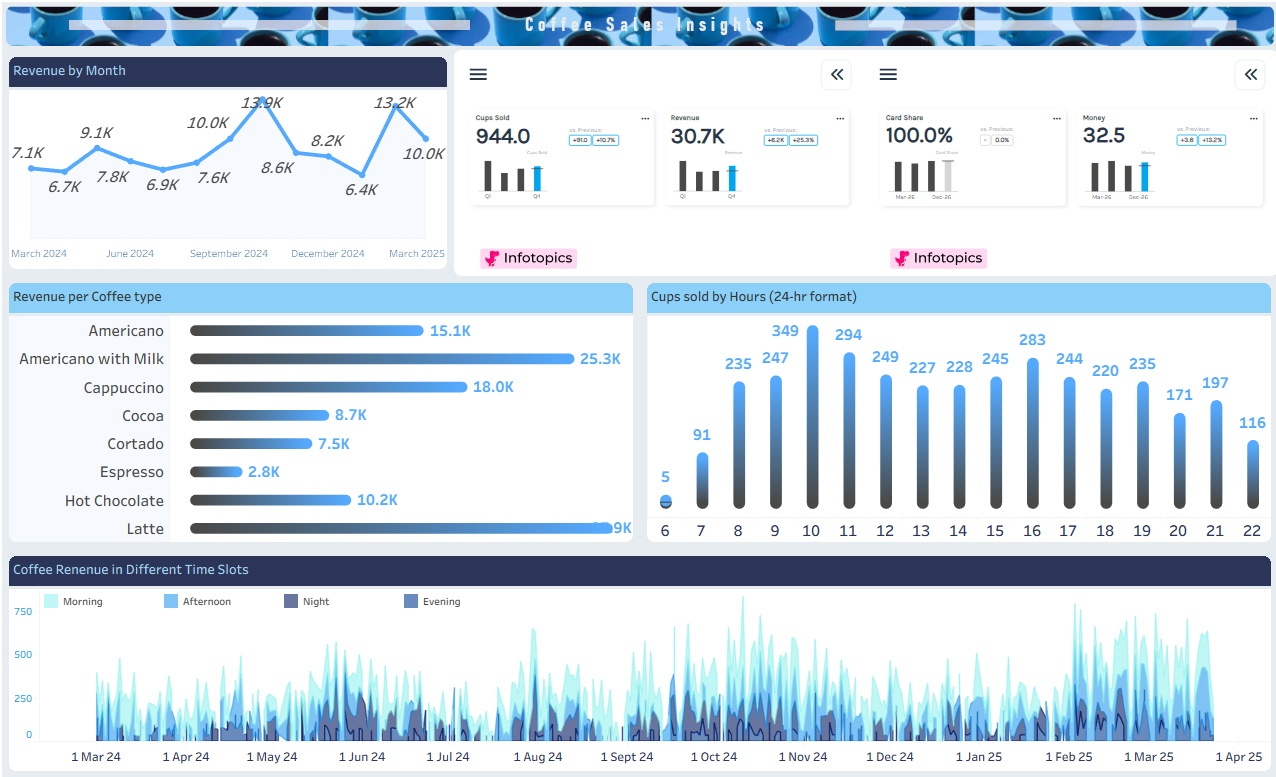

This screenshot's page, from the dashboard's own definition file:
{"tool":"tableau","page":{"name":"Dashboard","canvas":[1300,800],"ordinal":0},"visuals":[{"type":"image","param":"C:/Users/hp/Downloads/coffeebanner.jpg","box":[12,12,1276,48]},{"type":"worksheet","title":"Revenue by month","mark":"Automatic","rows":["money","money"],"cols":["datetime"],"box":[12,60,452,226]},{"type":"worksheet","title":"KPI 1","mark":"VizExtension","box":[464,60,410,226]},{"type":"worksheet","title":"KPI 2","mark":"VizExtension","box":[874,60,414,226]},{"type":"worksheet","title":"Revenue per Coffee type","mark":"Line","rows":["coffee_name"],"box":[12,286,638,273]},{"type":"worksheet","title":"Cups sold by hours","mark":"Line","cols":["datetime"],"box":[650,286,638,273]},{"type":"worksheet","title":"Time slot coffee Renenue","mark":"Area","rows":["money"],"cols":["date"],"box":[12,559,1276,229]},{"type":"legend","title":"Time slot coffee Renenue","param":"[federated.178hkmu1bey7e8163t3ok0b2v9kt].[none:Calculation_1552294120644608:nk]","box":[51,601,526,28]}]}

Visuals, with their boxes in screenshot pixels (x1, y1, x2, y2), scaled from the page's 1300x800 canvas onto the 1276x777 screenshot:
image: bbox(12, 12, 1264, 58)
"Revenue by month" worksheet: bbox(12, 58, 455, 278)
"KPI 1" worksheet (VizExtension marks): bbox(455, 58, 858, 278)
"KPI 2" worksheet (VizExtension marks): bbox(858, 58, 1264, 278)
"Revenue per Coffee type" worksheet (Line marks): bbox(12, 278, 638, 543)
"Cups sold by hours" worksheet (Line marks): bbox(638, 278, 1264, 543)
"Time slot coffee Renenue" worksheet (Area marks): bbox(12, 543, 1264, 765)
"Time slot coffee Renenue" legend: bbox(50, 584, 566, 611)
